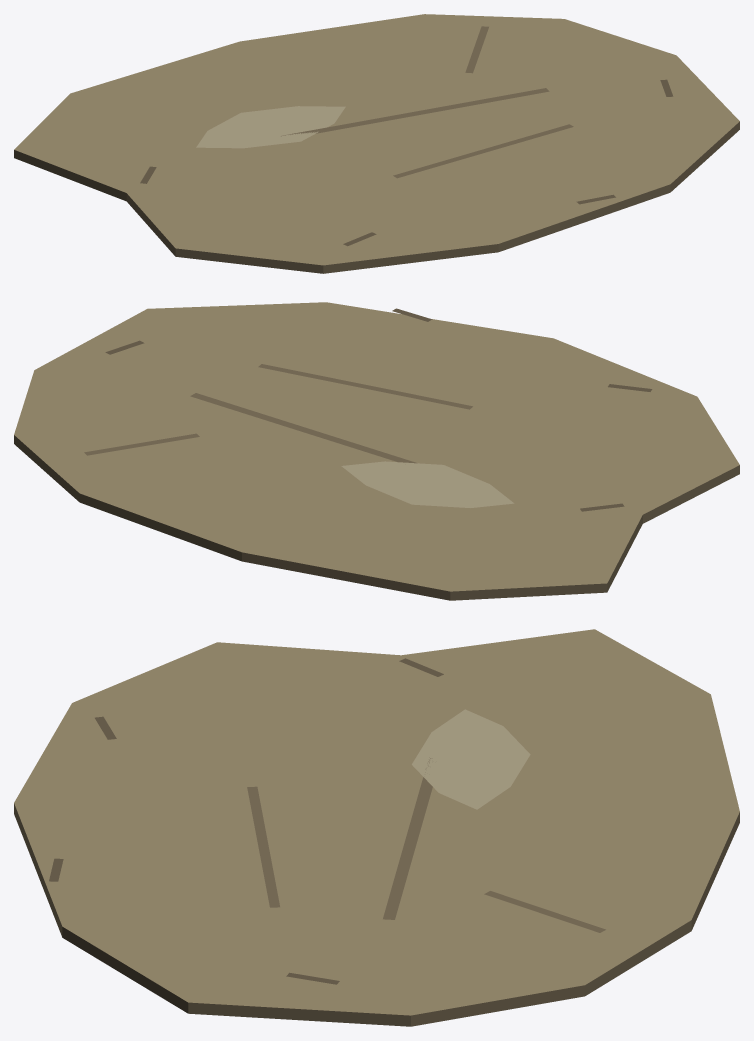
The model's file is TannedCamelHide.glb.
3 views of the same model, one above another, from view 1: azimuth 30°, elevation 25°; view 2: azimuth 150°, elevation 25°; view 3: azimuth 270°, elevation 25° (orthographic). The views are drawn at different scales.
Parts seen in each view (by area): view 1: TannedCamelHide; view 2: TannedCamelHide; view 3: TannedCamelHide.
Part boxes in pixels (x1=…): TannedCamelHide: x1=14, y1=14, x2=739, y2=273; TannedCamelHide: x1=14, y1=302, x2=739, y2=600; TannedCamelHide: x1=14, y1=629, x2=739, y2=1026.
Size of the model in its own units: 1.85 by 0.04 by 1.47.
